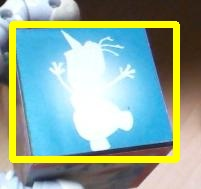Blue2: (12, 24, 176, 159)
